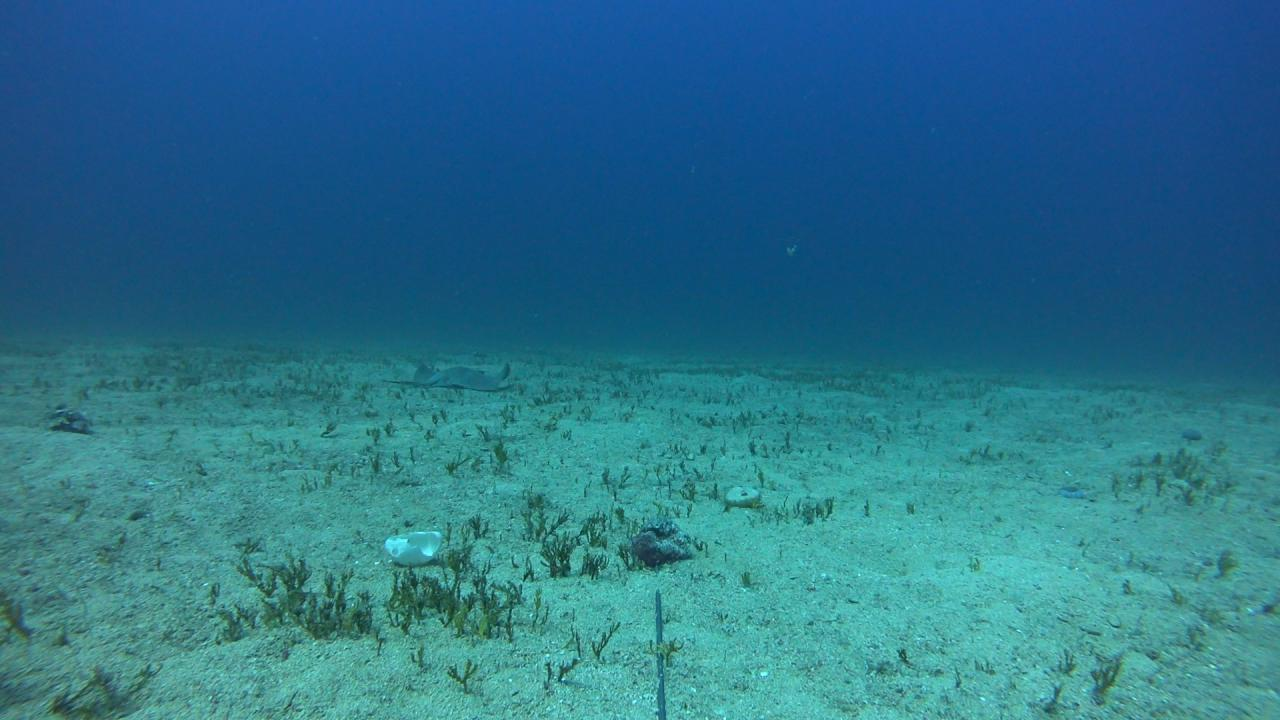dasyatis: (382, 363, 512, 391)
